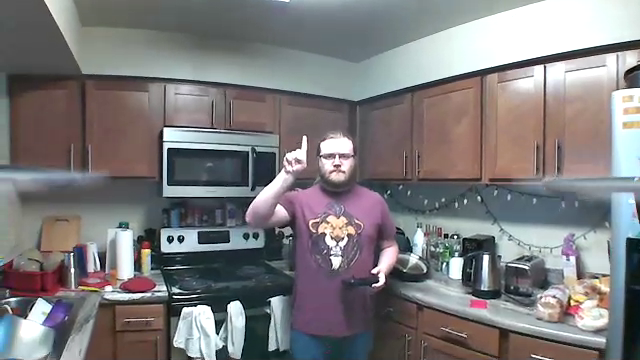up: (279, 127, 307, 175)
